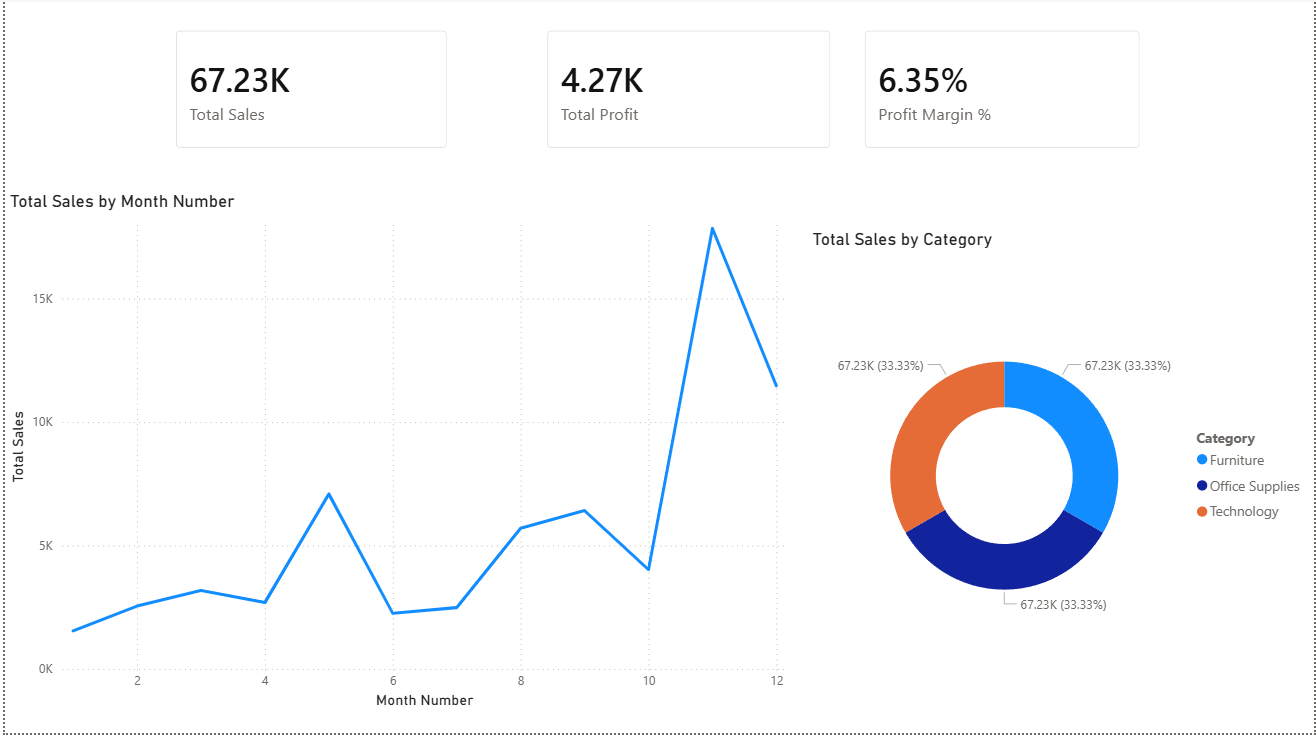

This screenshot's page, from the dashboard's own definition file:
{"tool":"powerbi","page":{"name":"Page 1","canvas":[1280,720],"ordinal":0},"visuals":[{"type":"lineChart","fields":{"Y":["_Calculated Measures.Total Sales"],"Category":["Dim_Calendar.Month Number"]},"box":[0,189.4,769.8,511.8],"z":0},{"type":"cardVisual","fields":{"Data":["_Calculated Measures.Total Sales"]},"box":[150.9,16.5,299.1,149.6],"z":1000},{"type":"cardVisual","fields":{"Data":["_Calculated Measures.Total Profit"]},"box":[513.2,16.5,311.5,149.6],"z":2000},{"type":"cardVisual","fields":{"Data":["_Calculated Measures.Profit Margin %"]},"box":[824.7,15.4,303.5,149.6],"z":3000},{"type":"donutChart","fields":{"Category":["Dim_Products.Category"],"Y":["_Calculated Measures.Total Sales"]},"box":[784.9,226.4,495.4,465.2],"z":4000}]}

Visuals, with their boxes in screenshot pixels (x1, y1, x2, y2), scaled from the page's 1280x720 canvas onto the 1316x736 screenshot:
lineChart - _Calculated Measures.Total Sales x Dim_Calendar.Month Number: Rect(0, 194, 791, 717)
cardVisual - _Calculated Measures.Total Sales: Rect(155, 17, 463, 170)
cardVisual - _Calculated Measures.Total Profit: Rect(528, 17, 848, 170)
cardVisual - _Calculated Measures.Profit Margin %: Rect(848, 16, 1160, 169)
donutChart - Dim_Products.Category x _Calculated Measures.Total Sales: Rect(807, 231, 1315, 707)
